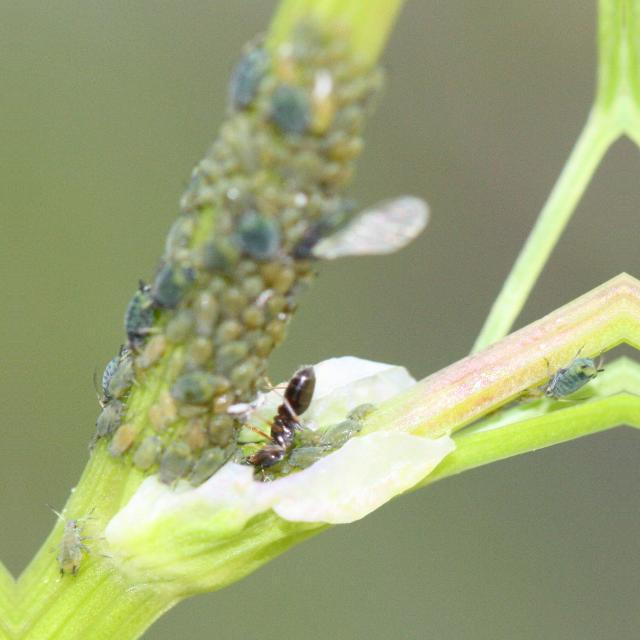Tapinoma: (236, 357, 332, 488)
